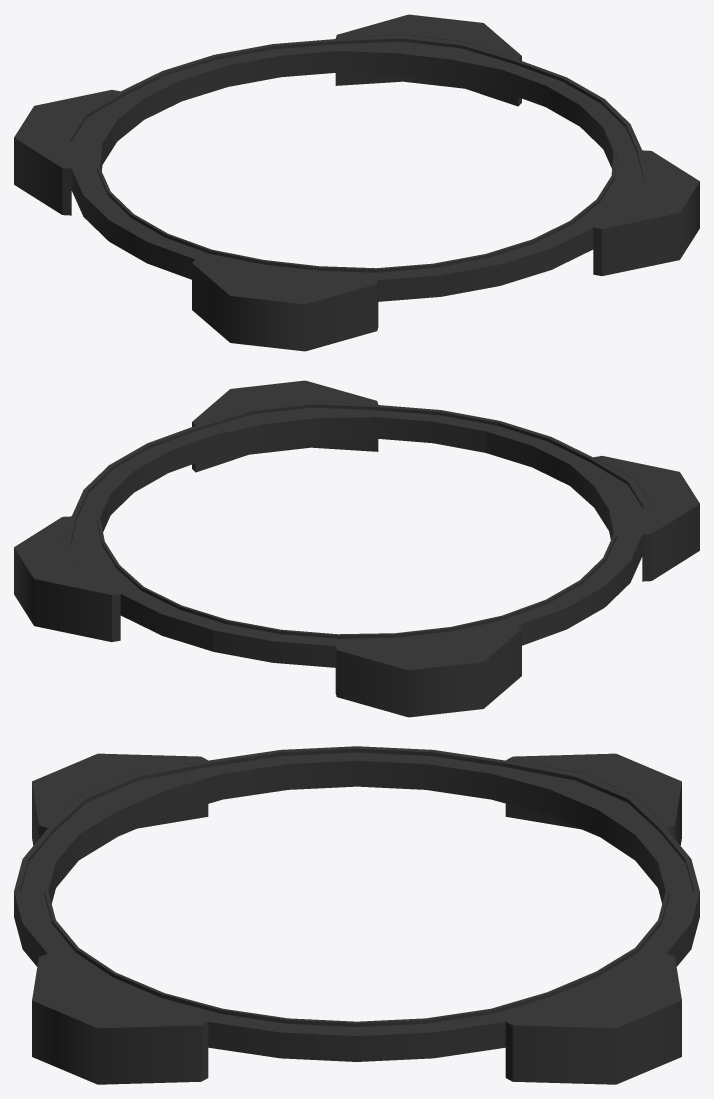
The model's file is karakter_yolu.fbx.
3 views of the same model, one above another, from view 1: azimuth 30°, elevation 25°; view 2: azimuth 150°, elevation 25°; view 3: azimuth 270°, elevation 25° (orthographic). The views are drawn at different scales.
Parts seen in each view (by area): view 1: pPipe15; view 2: pPipe15; view 3: pPipe15.
Boxes of the visible parts, x1,y1,x2,y2 form: pPipe15: (14, 14, 699, 351); pPipe15: (14, 380, 699, 717); pPipe15: (14, 746, 699, 1084).
Size of the model in its own units: 24 by 2.18 by 24.
1 material, 1 textured.
